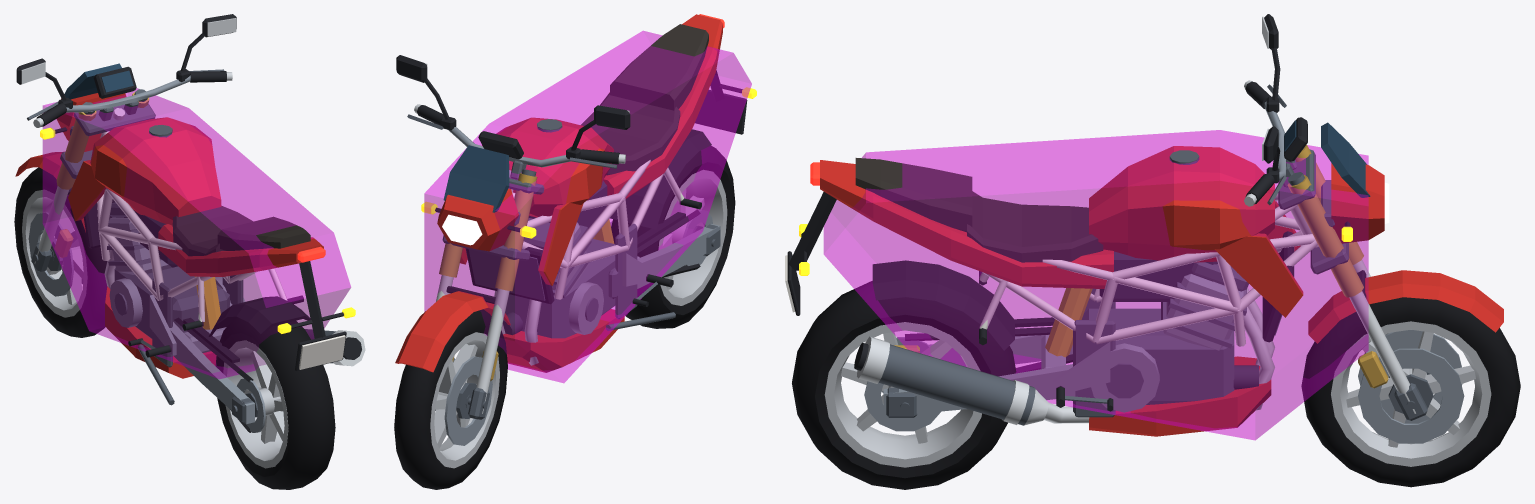
The model's file is motorcycle.glb.
3 renders of one model, left to right at view 1: azimuth 30°, elevation 25°; view 2: azimuth 150°, elevation 25°; view 3: azimuth 270°, elevation 25°, orthographic. The views are drawn at different scales.
Visible parts, largest first — view 1: Col_Body, Body, Wheel_R, Handlebar, Wheel_F; view 2: Col_Body, Body, Handlebar, Wheel_F, Wheel_R; view 3: Col_Body, Body, Wheel_F, Wheel_R, Handlebar.
Part boxes in pixels (x1=…): Col_Body: x1=42, y1=88, x2=350, y2=379; Body: x1=68, y1=117, x2=365, y2=432; Wheel_R: x1=215, y1=317, x2=335, y2=489; Handlebar: x1=15, y1=14, x2=236, y2=271; Wheel_F: x1=14, y1=167, x2=109, y2=337; Col_Body: x1=424, y1=30, x2=751, y2=383; Body: x1=460, y1=14, x2=756, y2=372; Handlebar: x1=395, y1=55, x2=630, y2=419; Wheel_F: x1=394, y1=309, x2=507, y2=489; Wheel_R: x1=611, y1=146, x2=735, y2=328; Col_Body: x1=823, y1=130, x2=1368, y2=440; Body: x1=785, y1=146, x2=1318, y2=436; Wheel_F: x1=1301, y1=297, x2=1520, y2=487; Wheel_R: x1=792, y1=281, x2=1016, y2=489; Handlebar: x1=1244, y1=14, x2=1503, y2=420.
Size of what is drawn, in the model's own units: 0.8742 by 1.27 by 2.08.
